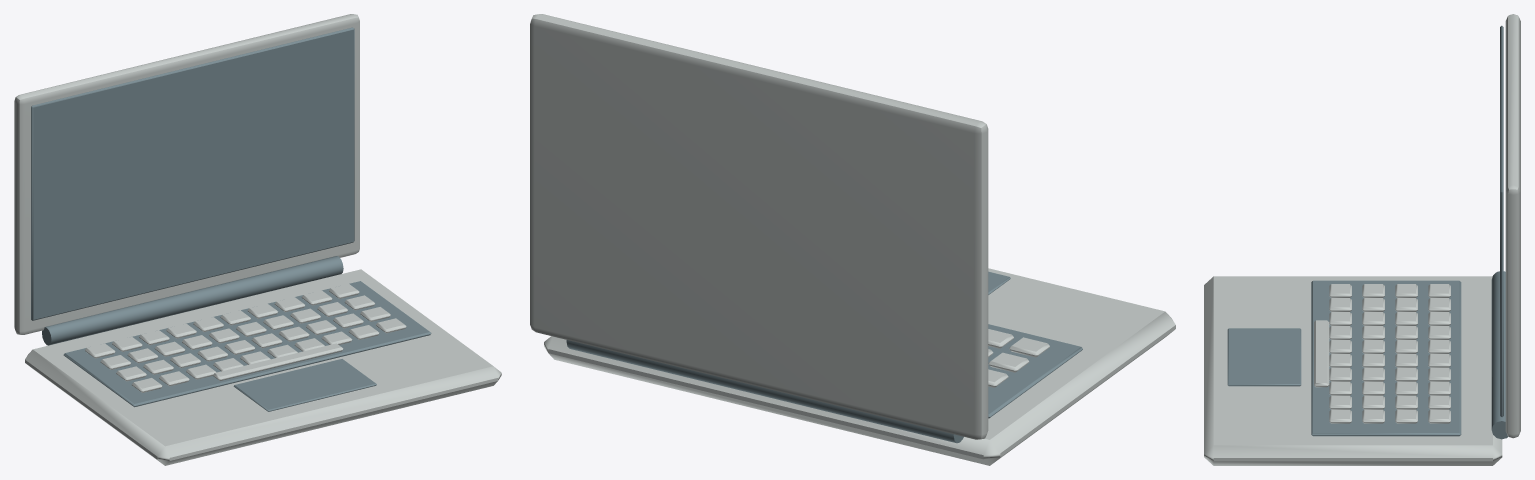
Rendered from laptop.glb.
3 renders of one model, left to right at view 1: azimuth 30°, elevation 25°; view 2: azimuth 150°, elevation 25°; view 3: azimuth 270°, elevation 25°, orthographic. The views are drawn at different scales.
Visible parts, largest first — view 1: display, base, display_shell, keyboard_recess, hinge, trackpad, space_bar; view 2: display_shell, base, hinge, keyboard_recess; view 3: base, keyboard_recess, display_shell, trackpad, hinge, display, space_bar, key_0_6, key_1_6, key_2_6, key_3_6, key_3_7 (+11 smaller).
Boxes of the visible parts, x1,y1,x2,y2 form: display: (31,27,354,320); base: (25,269,501,465); display_shell: (14,14,359,334); keyboard_recess: (63,281,431,407); hinge: (42,256,343,345); trackpad: (233,359,376,411); space_bar: (213,343,343,380); display_shell: (530,14,988,439); base: (544,268,1175,465); hinge: (566,340,963,443); keyboard_recess: (988,324,1082,418); base: (1204,276,1502,465); keyboard_recess: (1311,280,1461,436); display_shell: (1505,14,1520,438); trackpad: (1227,328,1301,386); hinge: (1491,271,1508,439); display: (1500,25,1503,417); space_bar: (1314,320,1329,387); key_0_6: (1428,367,1450,381); key_1_6: (1395,367,1417,381); key_2_6: (1362,367,1384,381); key_3_6: (1329,367,1351,381); key_3_7: (1329,381,1351,395).
Bounding box in the file's own units: 0.33 × 0.245 × 0.2495.
